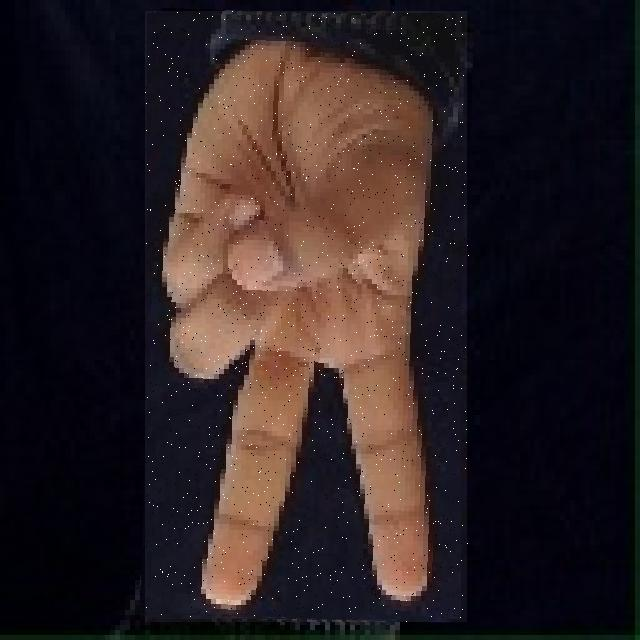No: (146, 11, 470, 622)
